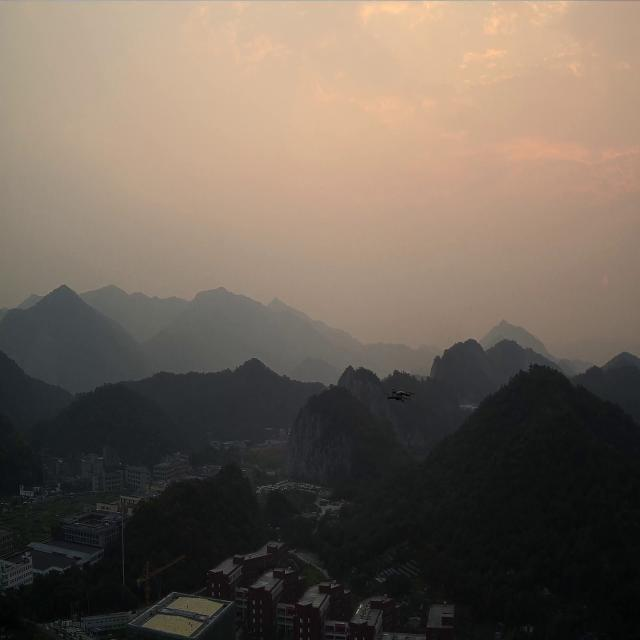drone: (386, 388, 414, 402)
